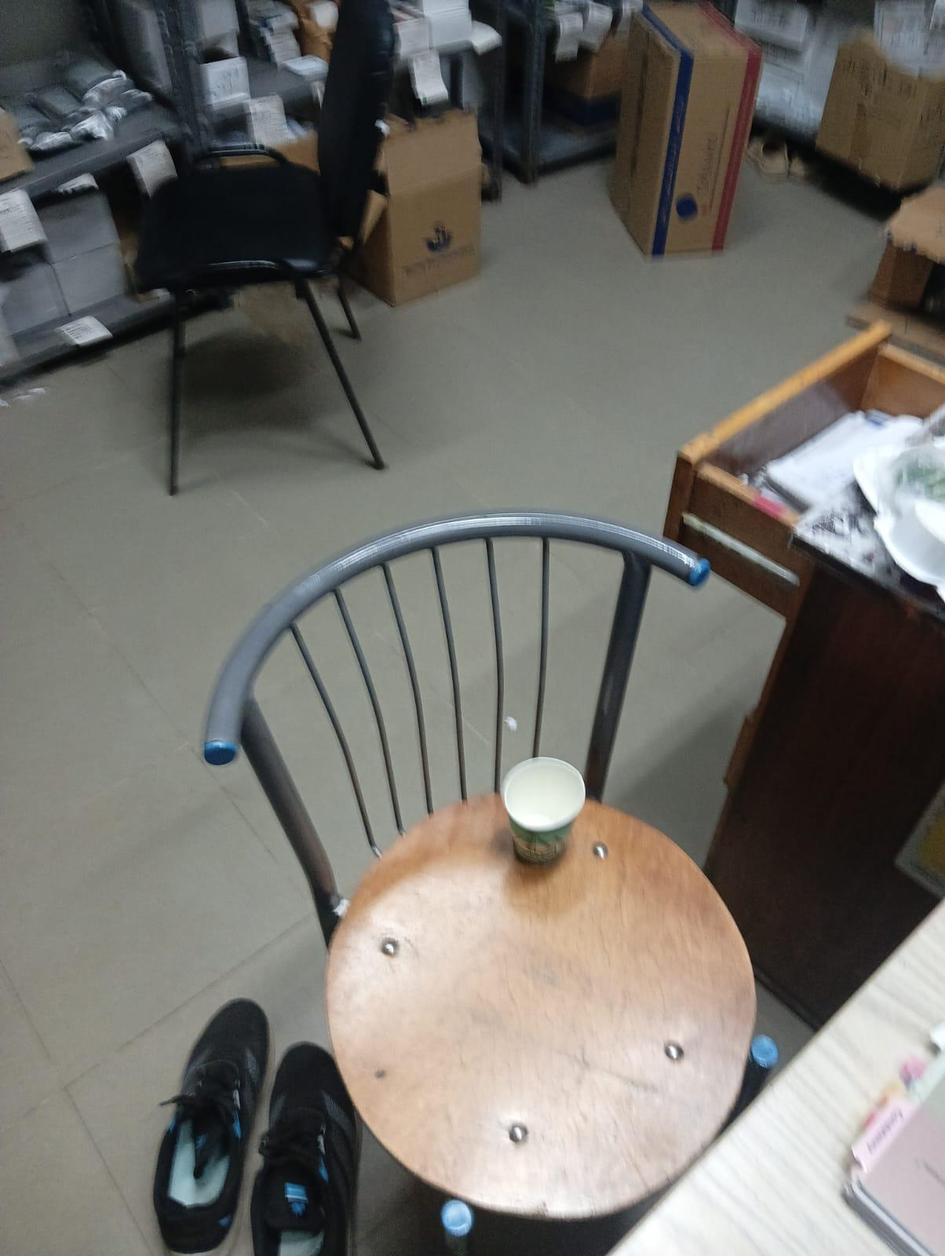cup: (502, 758, 585, 864)
